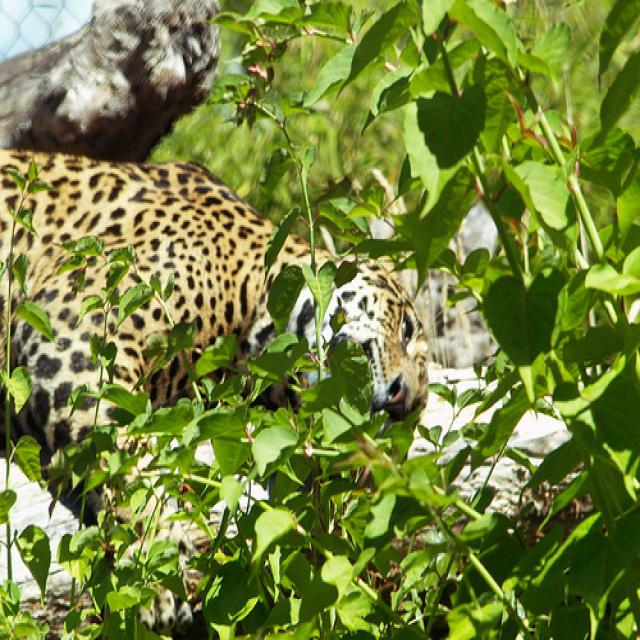Leopard: (0, 143, 430, 630)
